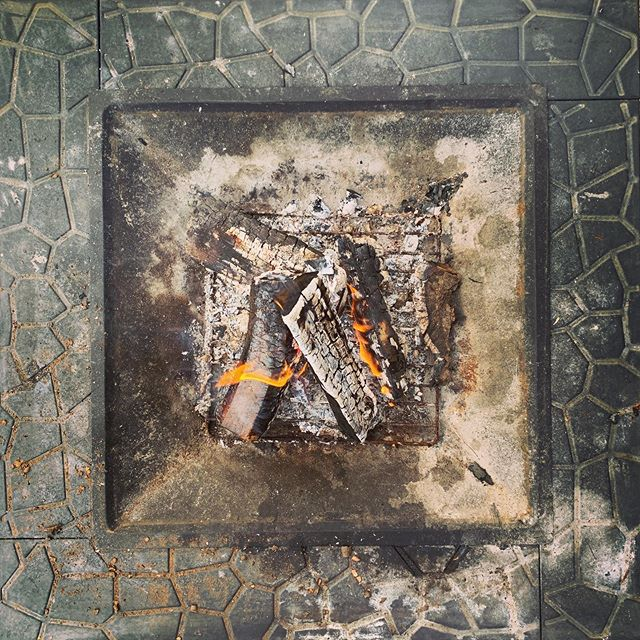fireplace: (80, 96, 550, 551)
